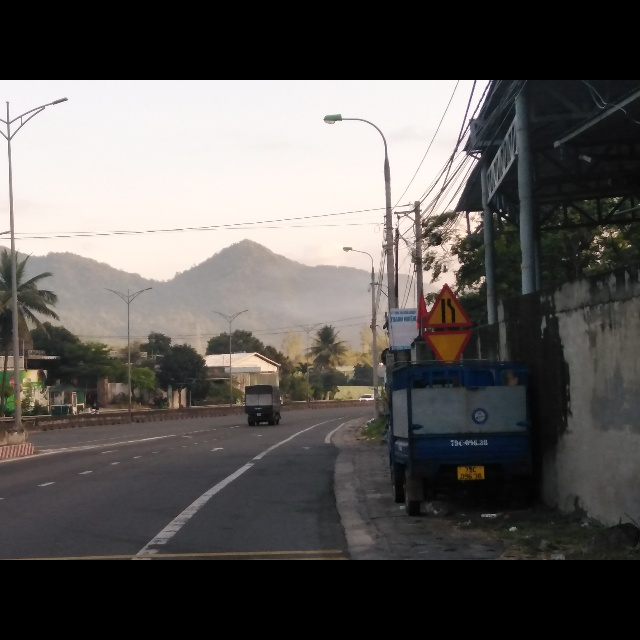Giao nhau với đường ưu tiên: (421, 330, 471, 364)
Đường bị hẹp bên phải: (422, 284, 471, 329)
